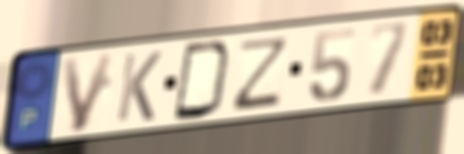5: (307, 24, 358, 105)
7: (366, 18, 411, 100)
D: (170, 39, 235, 123)
K: (113, 48, 165, 125)
V: (59, 48, 119, 136)
Z: (228, 33, 293, 114)
